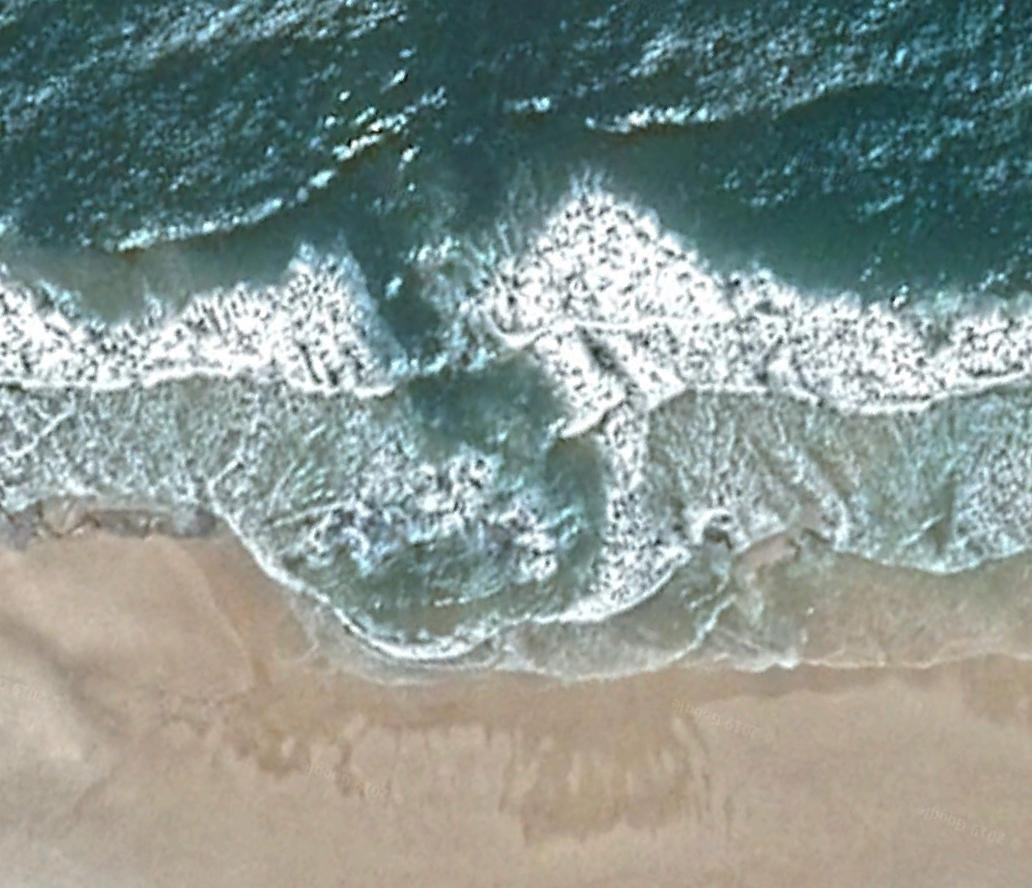rip_current: (291, 171, 629, 578)
